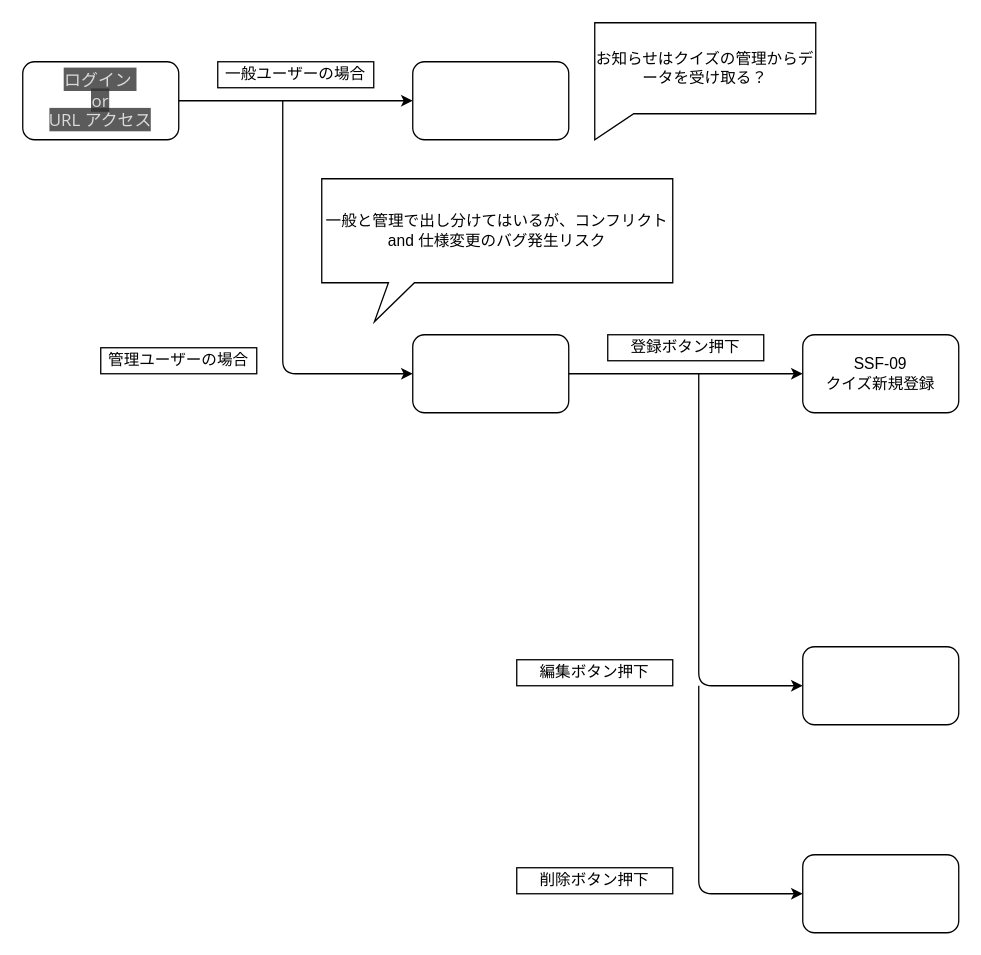
Image size: 981x955. Some labels were removed from this diagram. The centre of each missing label's shape, as x and y in pixels:
"SSF-08 クイズ管理Top" goes at point (490, 373).
"SSF-10 クイズ編集" goes at point (880, 685).
"SSF-11 クイズ削除" goes at point (880, 893).
"お知らせ画面？" goes at point (490, 100).
